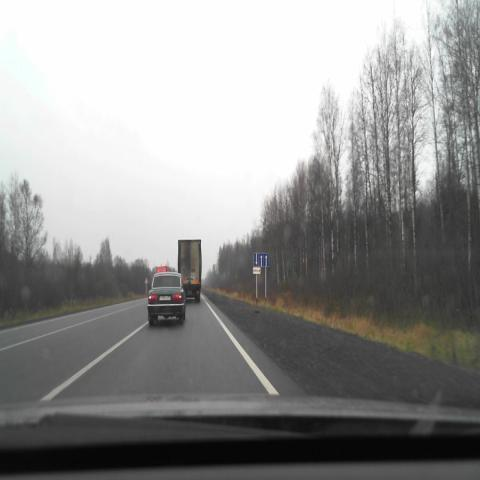5_15_7: (253, 252, 269, 267)
